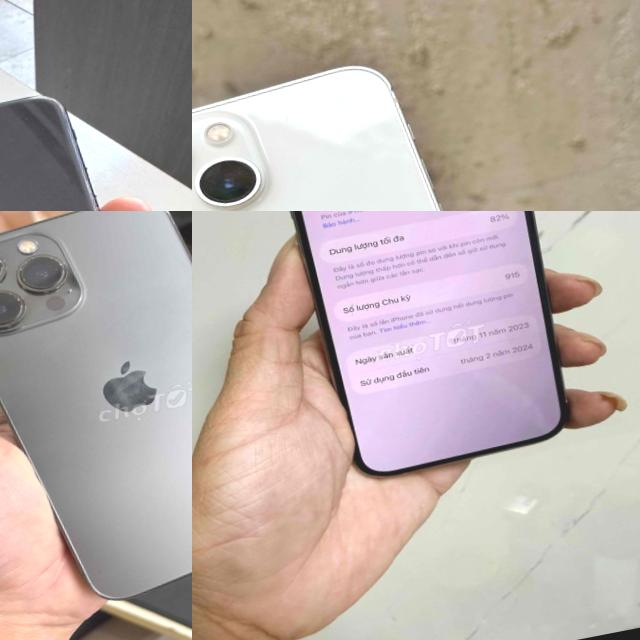gen_12_13: (0, 211, 192, 624), (192, 43, 556, 211)
gen_15: (256, 211, 601, 491)
gen_x_xs: (0, 80, 183, 211)
